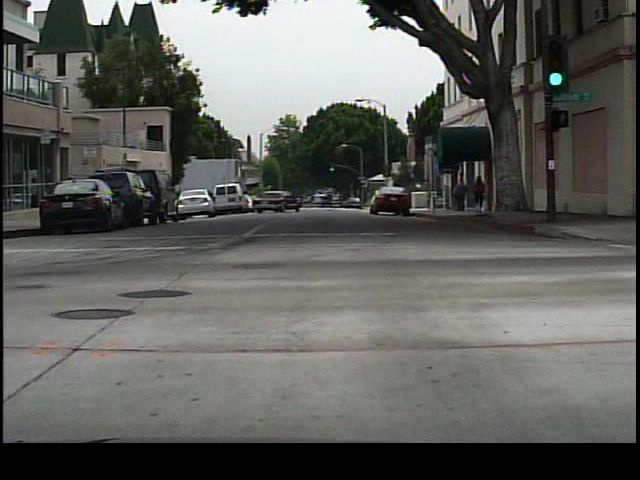person: (450, 177, 472, 214), (472, 171, 490, 216)
